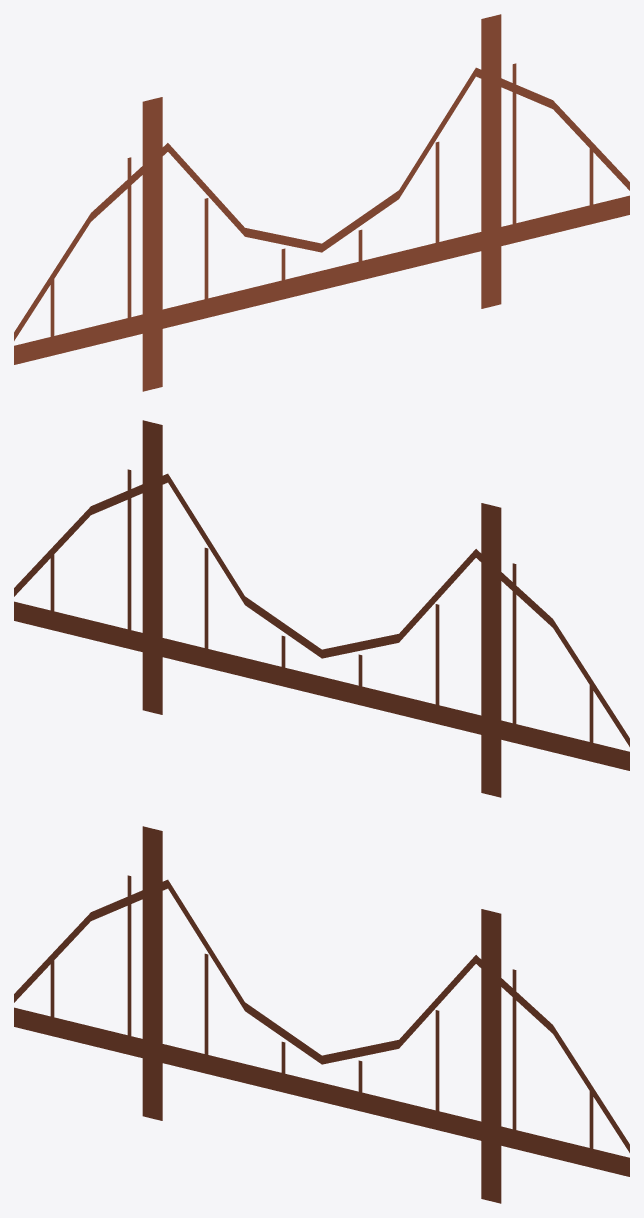
The model's file is alc_far_bridge_far.glb.
The picture shows the model from 3 angles, top to bottom: view 1: azimuth 30°, elevation 25°; view 2: azimuth 150°, elevation 25°; view 3: azimuth 330°, elevation 25°; orthographic projection.
Visible parts, largest first — view 1: alc_far_bridge_far; view 2: alc_far_bridge_far; view 3: alc_far_bridge_far.
Boxes of the visible parts, x1,y1,x2,y2 form: alc_far_bridge_far: [14, 14, 629, 391]; alc_far_bridge_far: [14, 420, 629, 797]; alc_far_bridge_far: [14, 826, 629, 1203].
Size of the model in its own units: 2 by 0.9 by 0.
